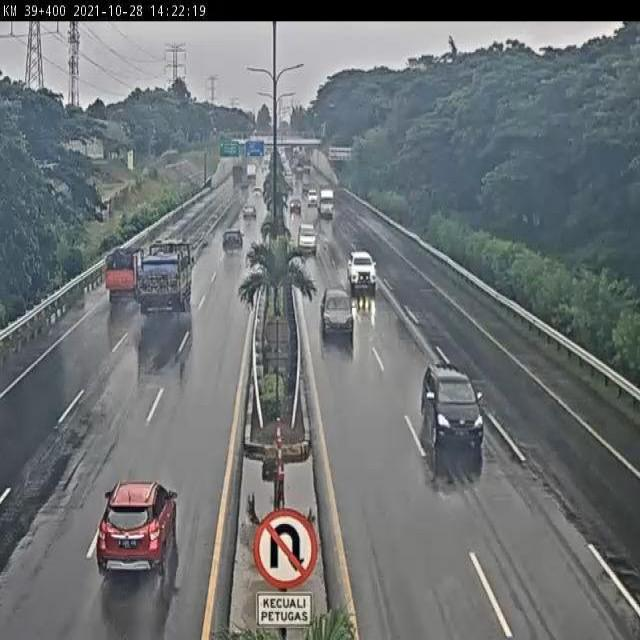car: (98, 483, 179, 576), (421, 361, 490, 451), (344, 248, 378, 287)
truck-l-: (133, 237, 197, 316)
truck-s-: (102, 246, 145, 302), (315, 187, 336, 220)
